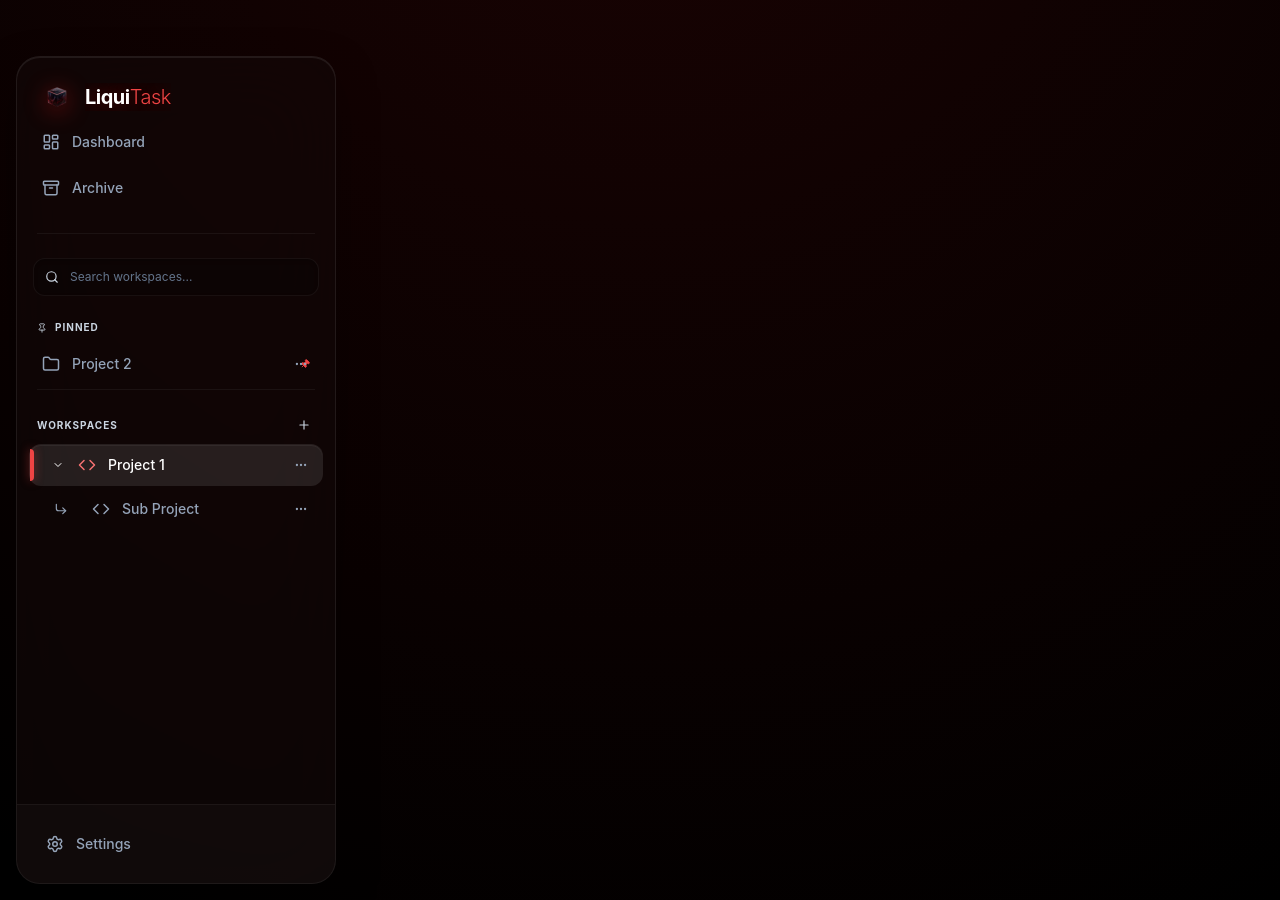
Scenario: Sidebar › filters projects by search term
Step 1. Type "Sub" into the field with placeholder "Search workspaces..." → x=176, y=277, box [33, 258, 319, 296]
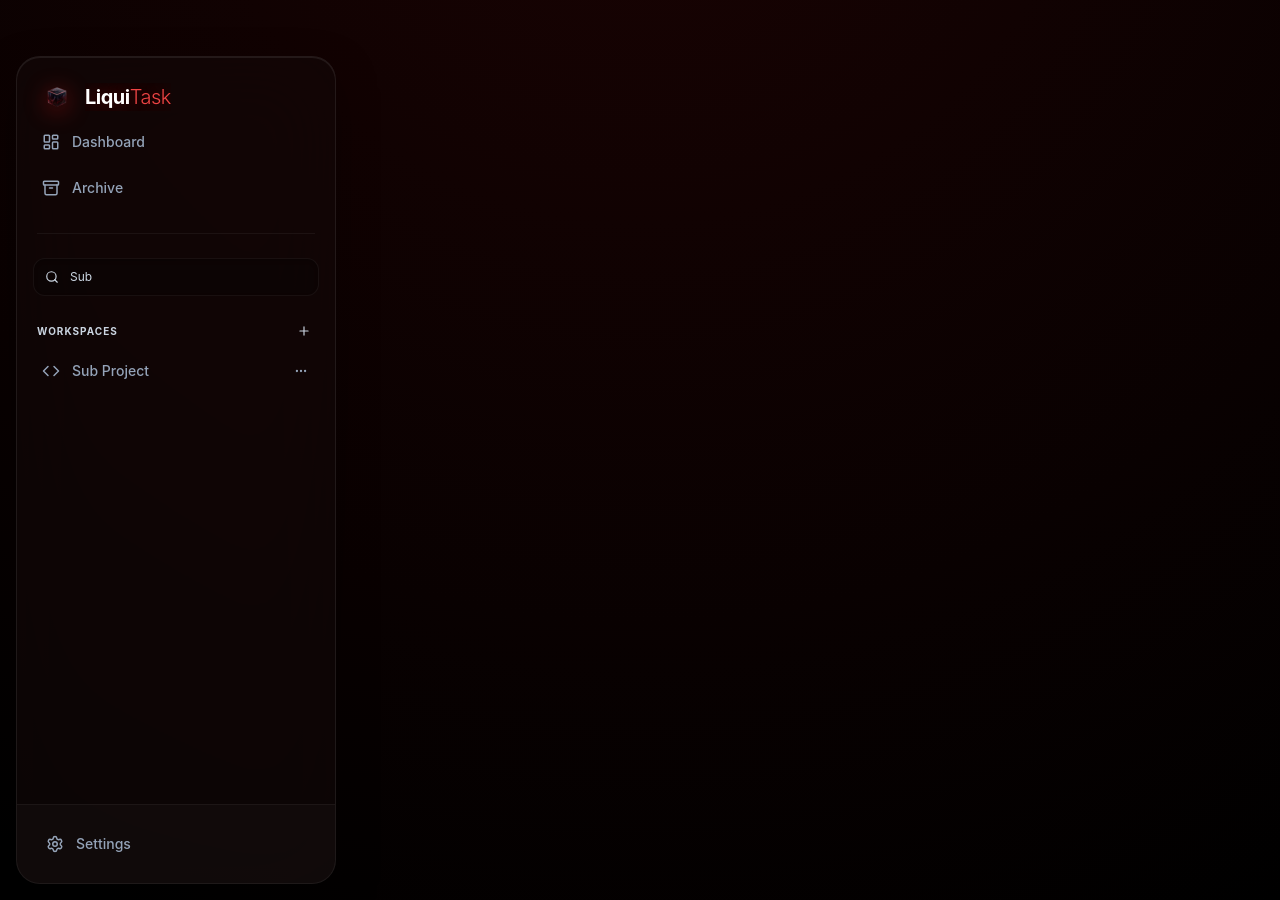
Expected: the text "Sub Project" is shown, [72, 362, 149, 379]
Expected: the text "Project 1" is gone
